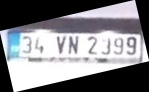character: (67, 34, 78, 54), (86, 35, 97, 54), (126, 35, 136, 55), (55, 35, 66, 53), (113, 36, 123, 54), (22, 35, 31, 53)
